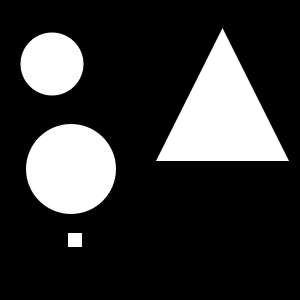circle: (186, 100, 242, 156), (68, 233, 82, 247)
rectangle: (26, 124, 116, 214), (21, 33, 84, 96)
triangle: (156, 28, 289, 161)
